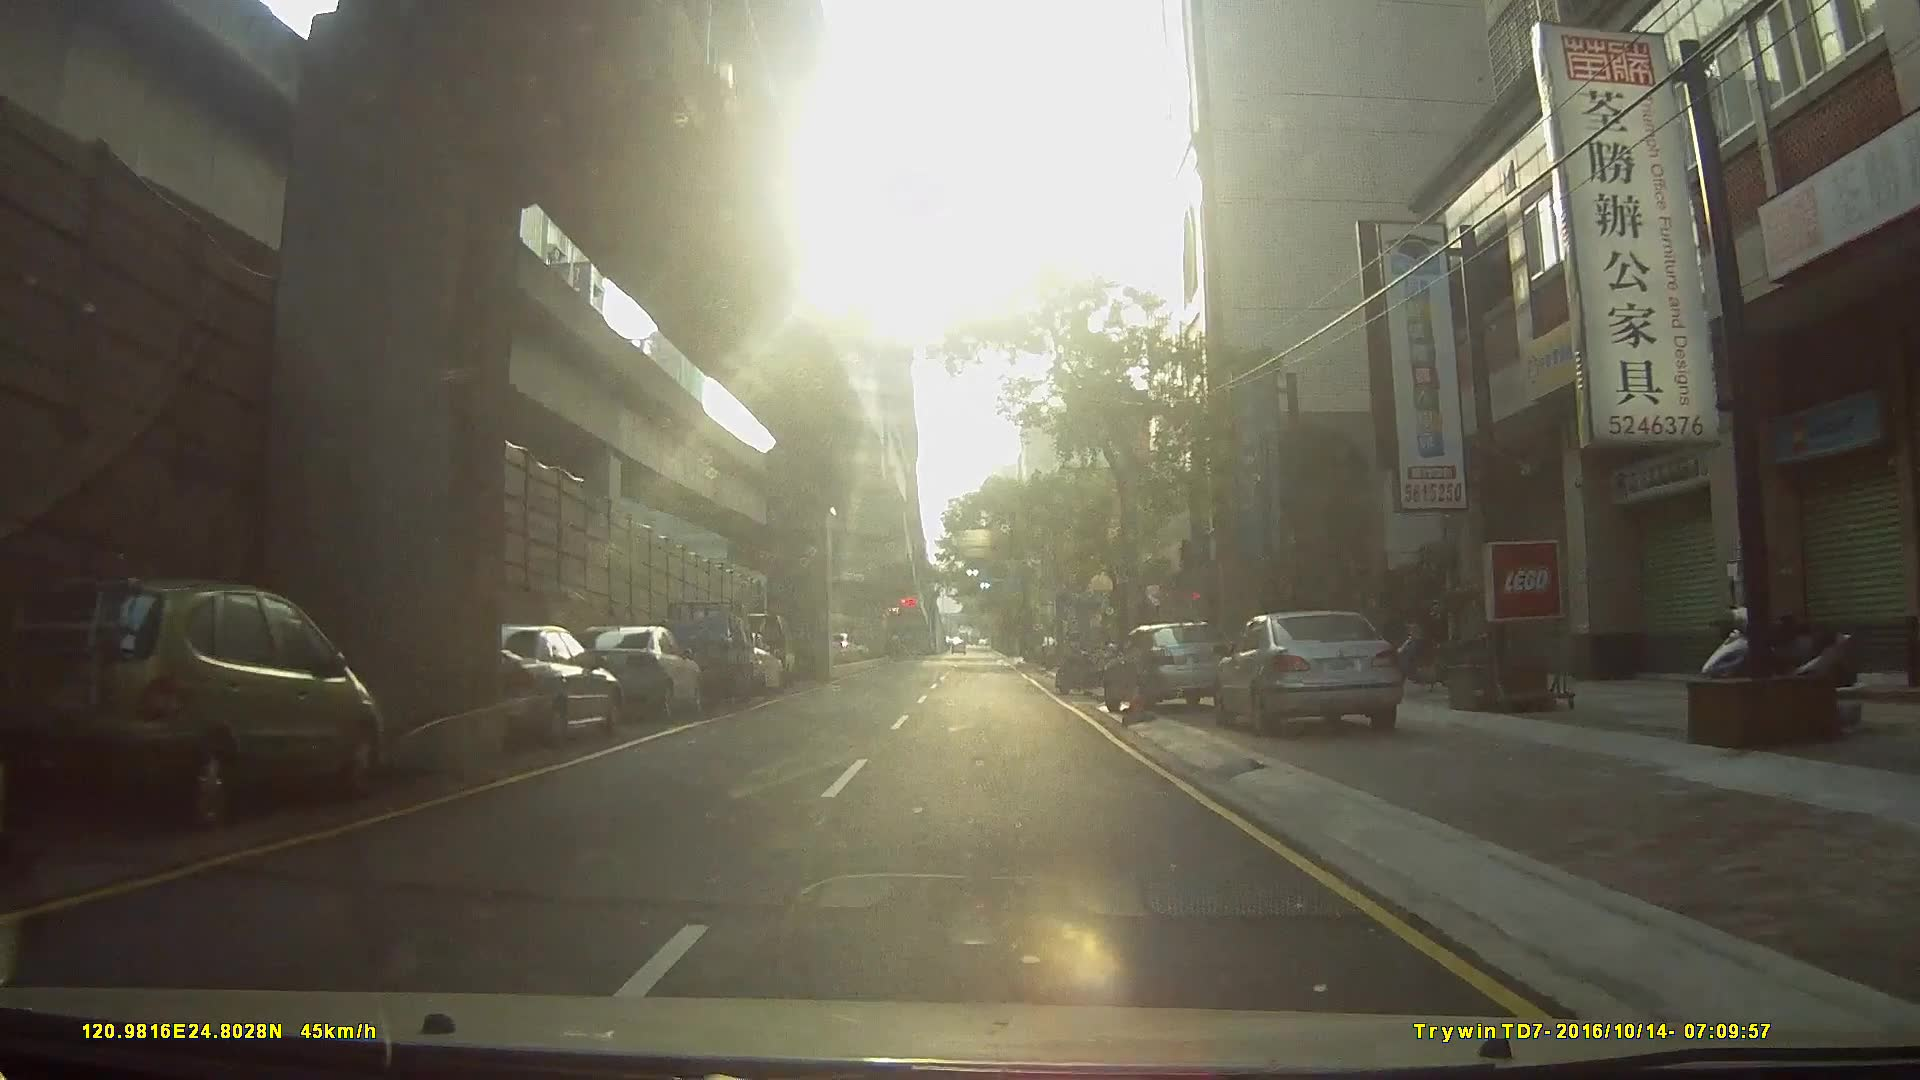rider: (1054, 628, 1110, 694)
vehicle: (1, 574, 396, 842), (1214, 610, 1415, 735), (437, 621, 619, 757), (1100, 618, 1242, 718), (558, 624, 701, 721), (642, 598, 756, 709)
